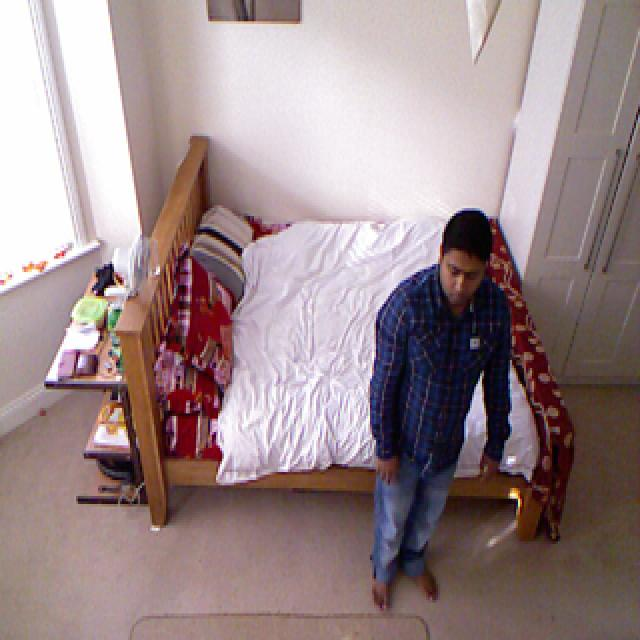standing: (369, 209, 514, 608)
